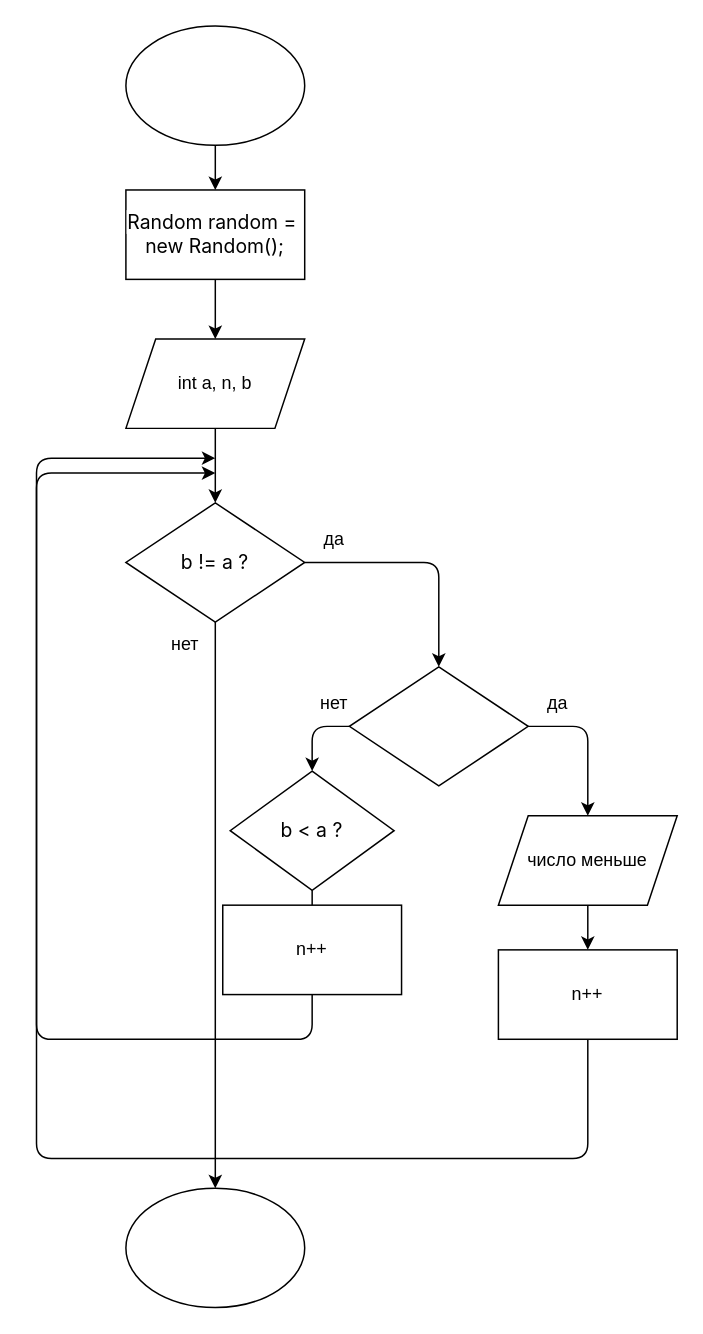
This 703x1334 diagram has some shape labels left out. The shapes that lost their labels are listed below. From the top down, each one's centre as x and y in pixels, then its label:
At [214,85]: "начало".
At [438,725]: "b > a ?".
At [214,1247]: "конец".
